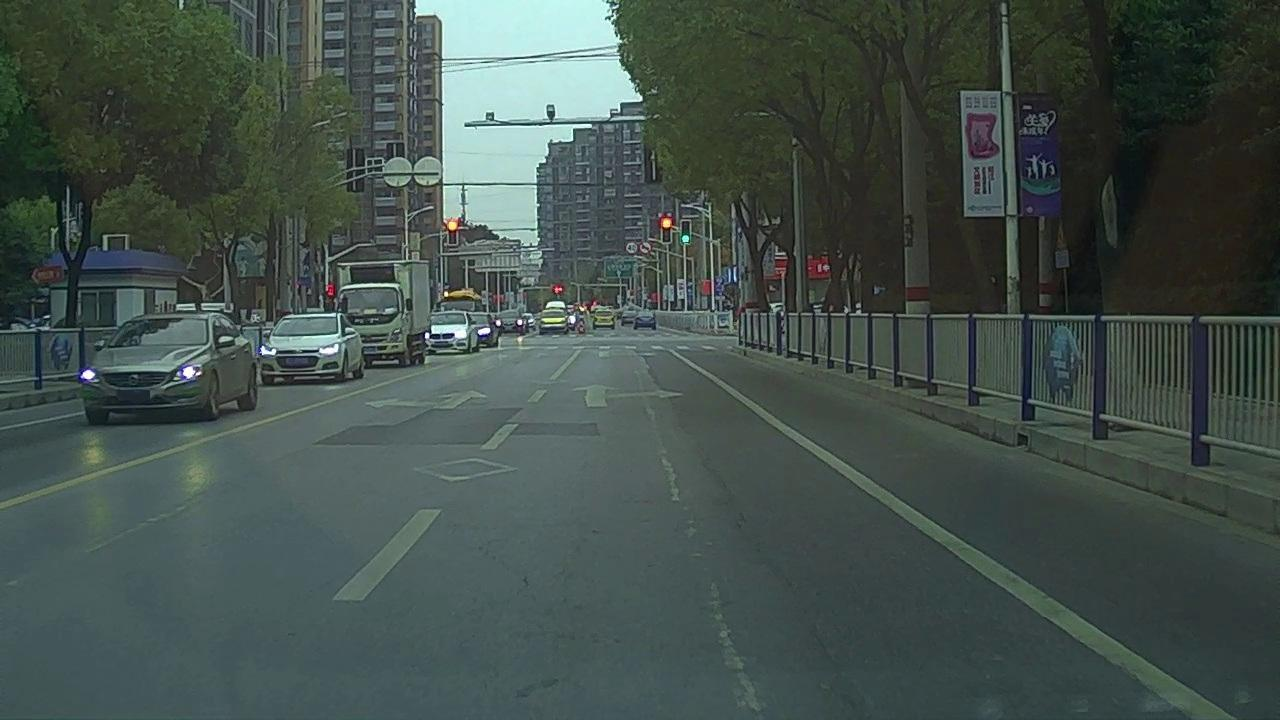traffic_light: (660, 217, 670, 242), (447, 221, 458, 243), (681, 221, 690, 243)
